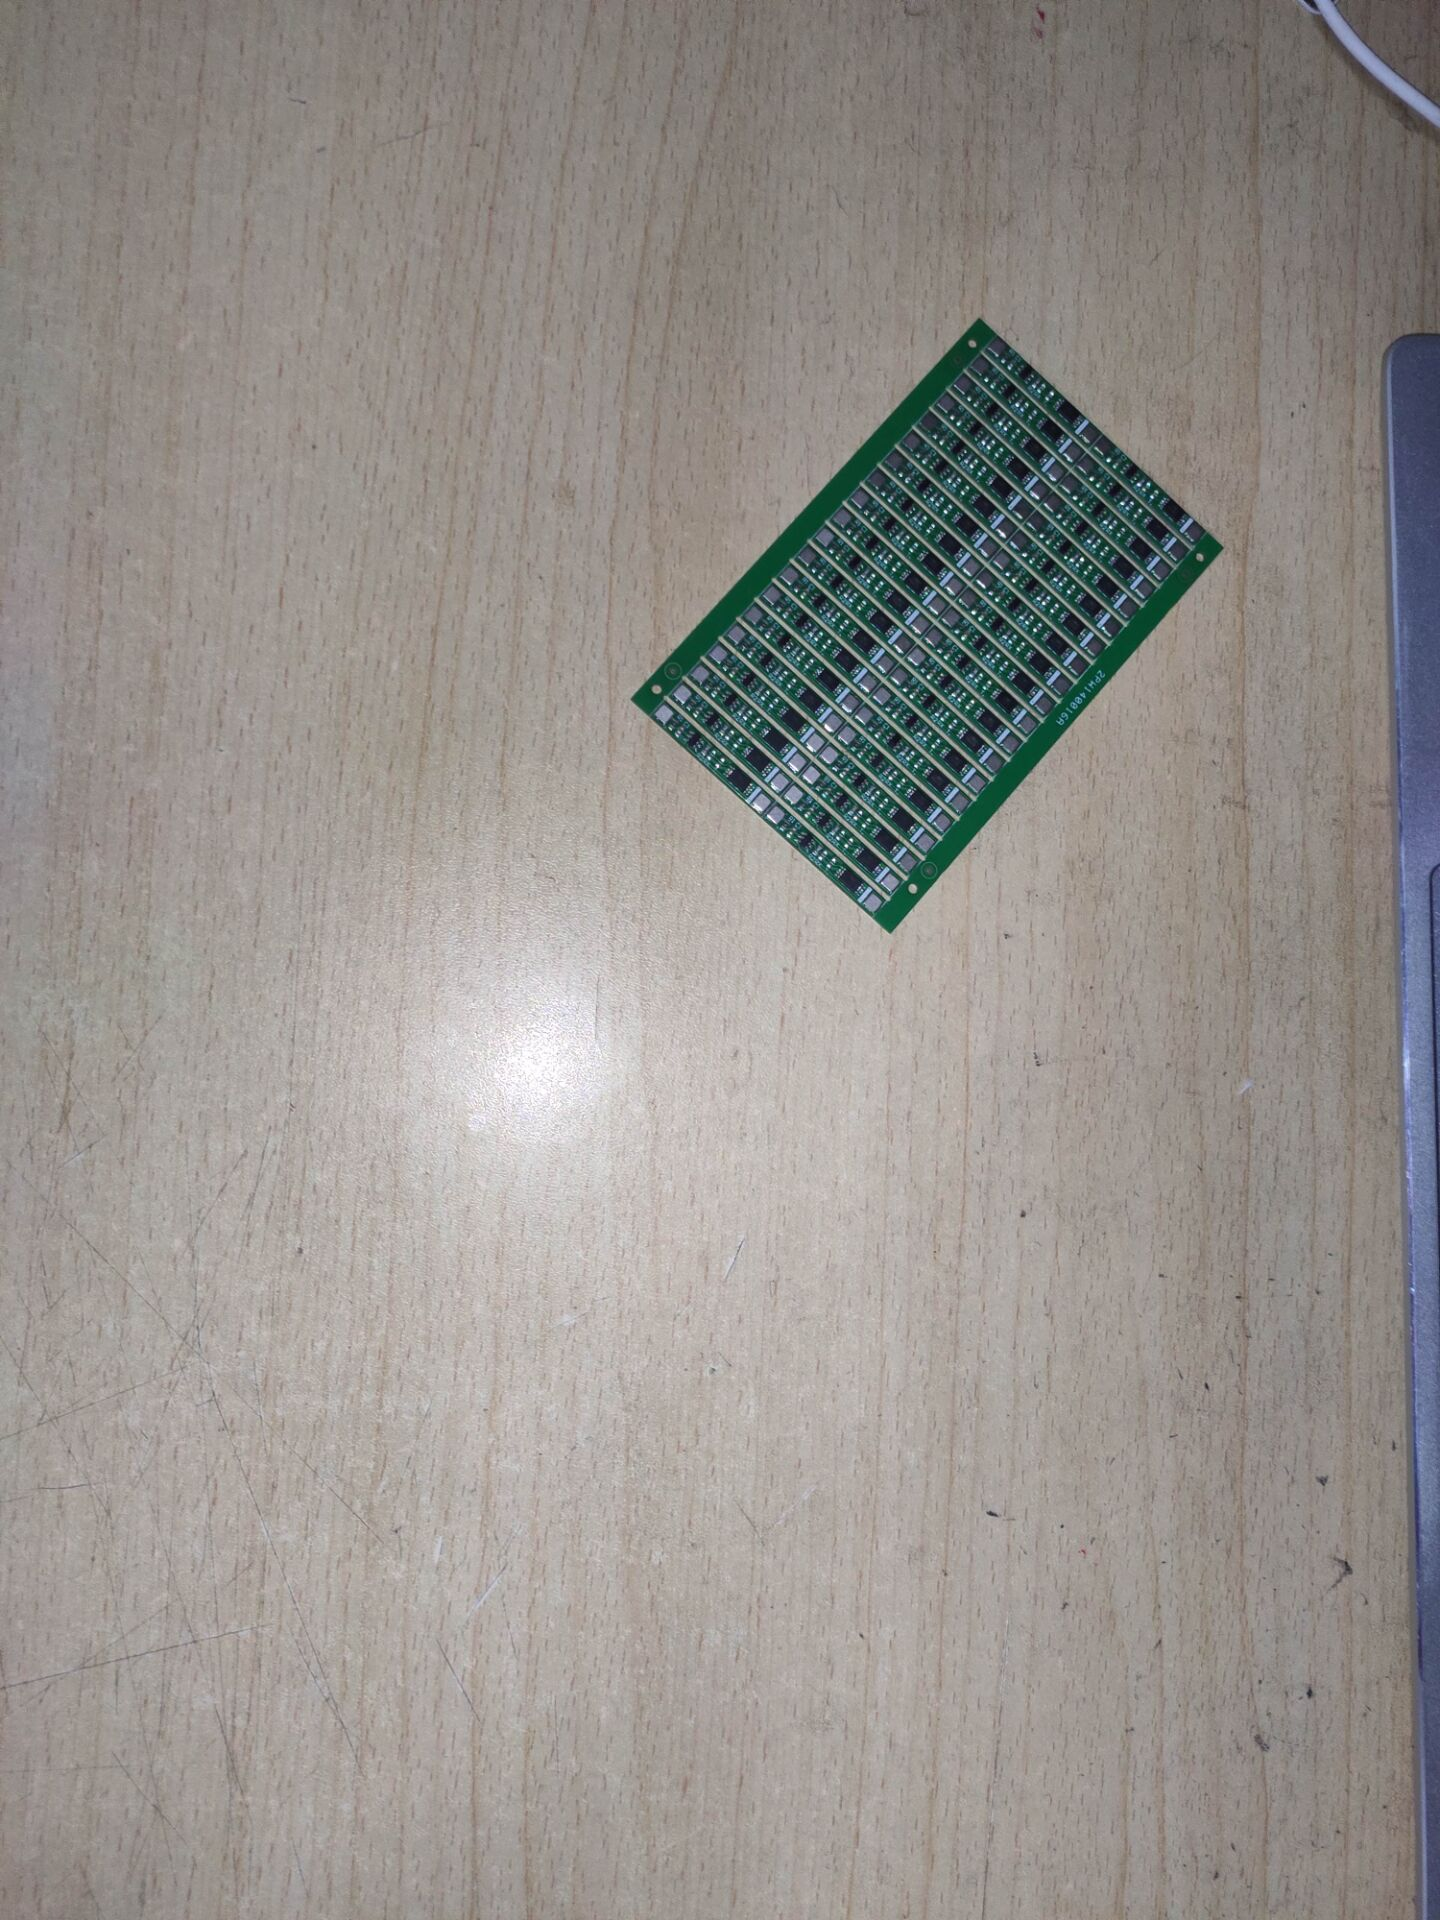point: (1015, 714, 1040, 734), (887, 665, 913, 685), (906, 646, 928, 668), (743, 605, 765, 626), (962, 556, 985, 577), (944, 576, 966, 597), (923, 626, 945, 647), (872, 684, 893, 706), (1117, 597, 1139, 619), (1000, 734, 1022, 756), (967, 771, 987, 794), (940, 607, 963, 628), (836, 724, 858, 745), (1050, 674, 1071, 696), (930, 812, 952, 833), (779, 565, 801, 585), (927, 596, 950, 616), (1009, 530, 1031, 551), (991, 550, 1014, 570), (725, 626, 748, 644), (875, 656, 899, 674), (1075, 456, 1099, 475), (1058, 476, 1081, 495), (782, 786, 806, 804), (798, 545, 819, 566), (763, 585, 784, 604), (708, 643, 728, 663), (690, 663, 711, 684), (995, 519, 1016, 538), (858, 674, 879, 694), (841, 692, 860, 713), (770, 774, 791, 794), (751, 793, 771, 813), (959, 590, 978, 611), (818, 746, 839, 765), (1183, 522, 1203, 543), (1151, 561, 1172, 581), (1134, 580, 1154, 601), (1103, 616, 1122, 636), (1085, 637, 1104, 658), (1069, 654, 1089, 676), (1033, 696, 1055, 715), (984, 753, 1006, 773), (948, 794, 970, 814), (1014, 499, 1032, 521), (805, 733, 828, 752), (893, 636, 916, 653), (1047, 463, 1066, 482), (897, 854, 917, 874), (655, 706, 676, 724), (1031, 480, 1049, 502), (1169, 540, 1188, 561), (674, 682, 692, 704), (936, 394, 956, 413), (886, 450, 906, 469), (832, 510, 852, 527), (816, 528, 835, 546), (1082, 424, 1099, 443), (882, 873, 901, 891), (979, 539, 1000, 557), (976, 570, 997, 587), (954, 376, 972, 395), (903, 432, 921, 451), (851, 489, 869, 507), (1045, 493, 1063, 511), (1028, 512, 1047, 530), (767, 808, 785, 825), (1093, 437, 1113, 454), (801, 766, 821, 783), (865, 893, 882, 913), (1066, 442, 1082, 463), (972, 357, 990, 375), (921, 413, 940, 430), (856, 707, 874, 724), (916, 834, 935, 851), (912, 617, 932, 632), (869, 472, 886, 489), (989, 340, 1007, 356), (824, 716, 843, 732), (789, 754, 806, 770)
